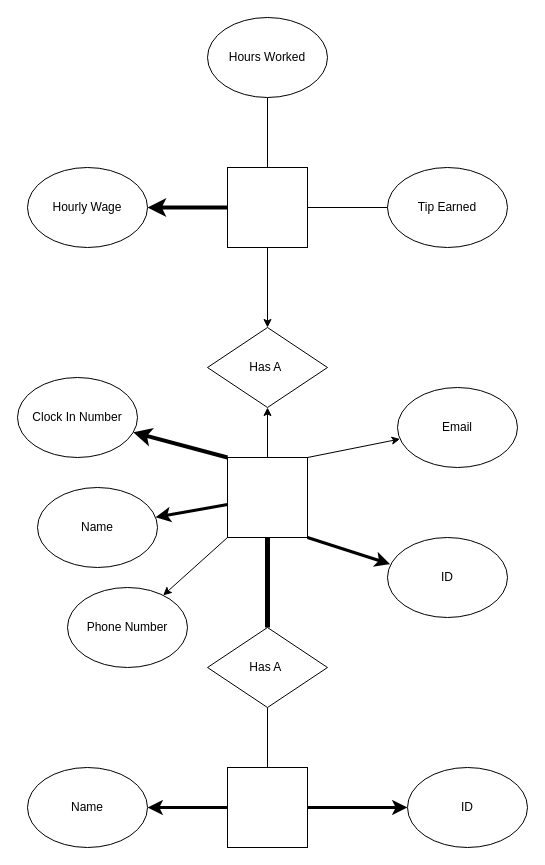
This 545x865 diagram has some shape labels left out. The shapes that lost their labels are listed below. From the top down, each one's box as (x1, y1, x2, y2) in pixels, then its label:
(226, 166, 308, 248): Paycheck
(226, 456, 308, 538): Employee
(226, 766, 308, 848): position
